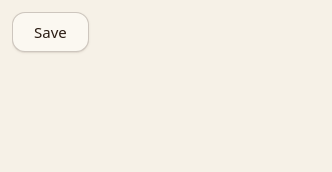
Test: Button › shows processing then a success tick, then returns to idle
This screenshot has width=332, height=172.
Later steps or results of the test are not shown.
What coordinates should you click on to do the following:
click the button "Save"
I would click on:
 (50, 32)
Its box is [12,12,89,52].
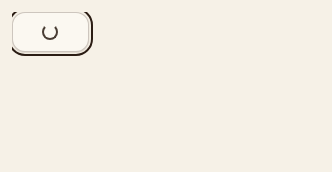
Check: the button named "Save" has attribute data-state="processing"
Check: the button named "Save" has attribute aria-busy="true"
What coordinates should you click on to do the following:
click the button named "Save"
I would click on:
 (50, 32)
Its box is [12,12,89,52].
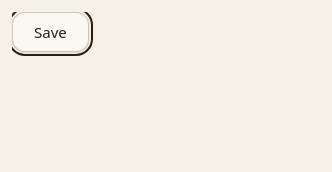
Check: the button "Save" has attribute data-state="idle", box [12,12,89,52]
